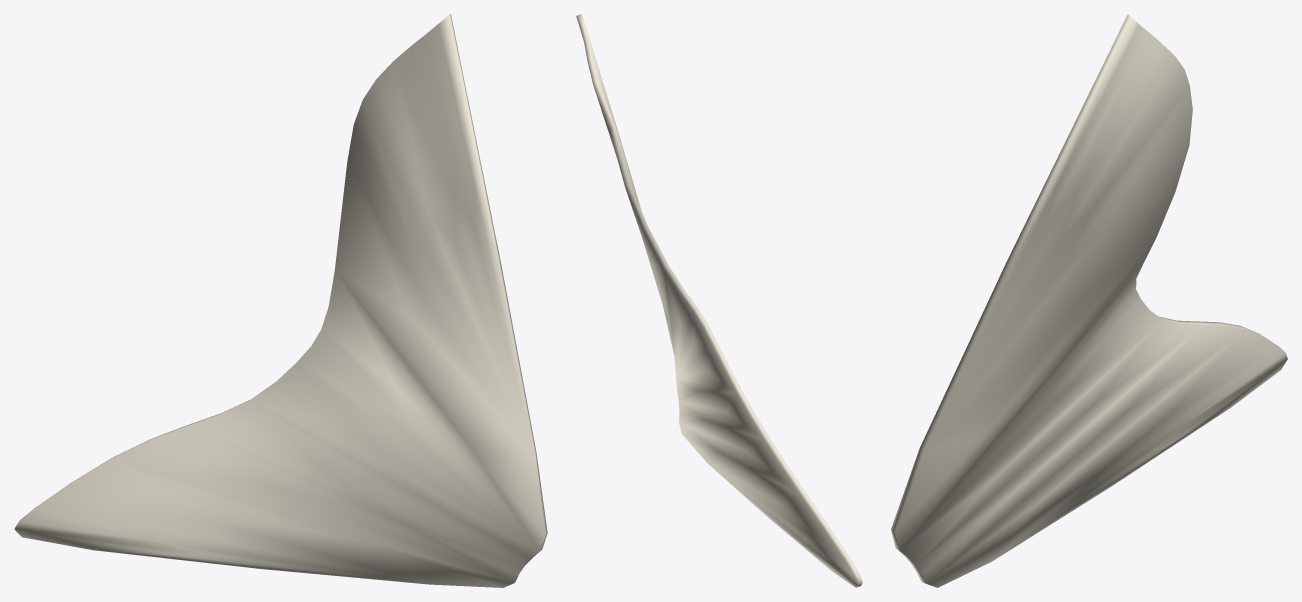
3 renders of one model, left to right at view 1: azimuth 30°, elevation 25°; view 2: azimuth 150°, elevation 25°; view 3: azimuth 270°, elevation 25°, orthographic. The views are drawn at different scales.
Parts seen in each view (by area): view 1: ZA_3f8b0c2aee290763; view 2: ZA_3f8b0c2aee290763; view 3: ZA_3f8b0c2aee290763.
Part boxes in pixels (x1,y1,x2,y2): ZA_3f8b0c2aee290763: [14, 14, 547, 587]; ZA_3f8b0c2aee290763: [576, 14, 862, 587]; ZA_3f8b0c2aee290763: [891, 14, 1287, 587].
Size of the model in its own units: 0.0341 by 0.0443 by 0.0269.
